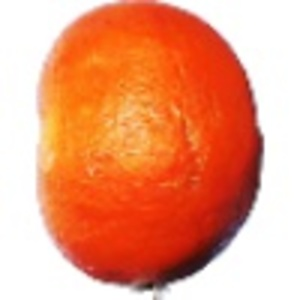tangerina: (34, 1, 266, 300)
